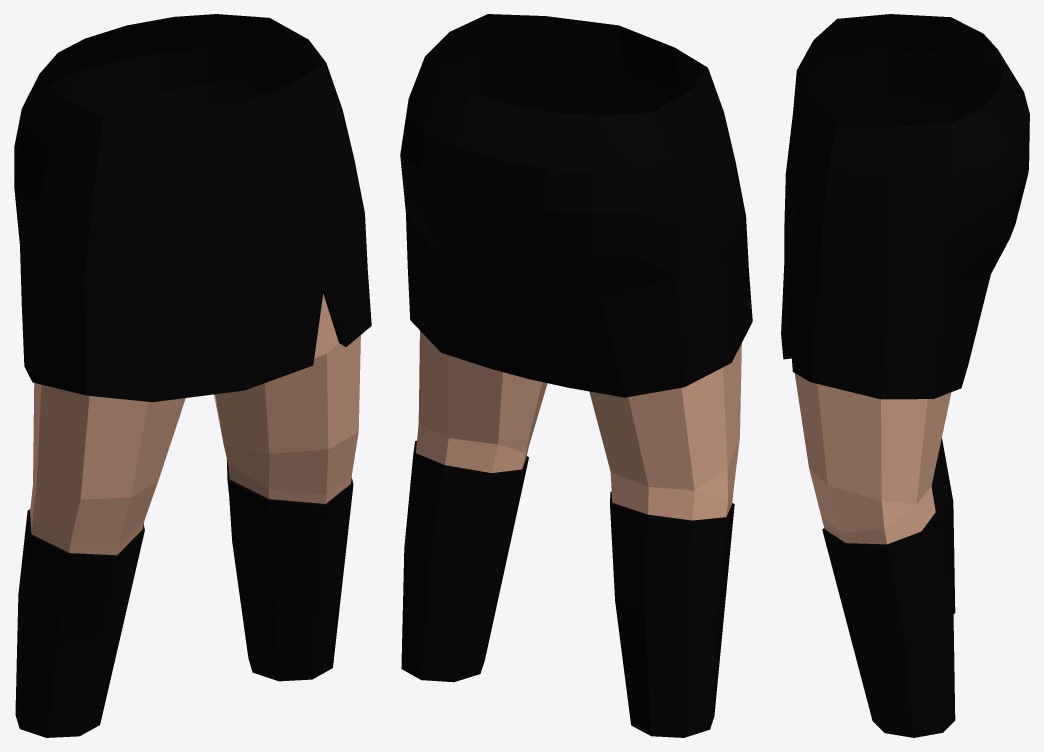
The picture shows the model from 3 angles, left to right: view 1: azimuth 30°, elevation 25°; view 2: azimuth 150°, elevation 25°; view 3: azimuth 270°, elevation 25°; orthographic projection. The views are drawn at different scales.
Visible parts, largest first — view 1: bottom; view 2: bottom; view 3: bottom.
Boxes of the visible parts, x1,y1,x2,y2 form: bottom: (14, 14, 371, 737); bottom: (400, 14, 752, 737); bottom: (781, 14, 1029, 737).
Bounding box in the file's own units: 0.2296 × 0.4359 × 0.1648.
